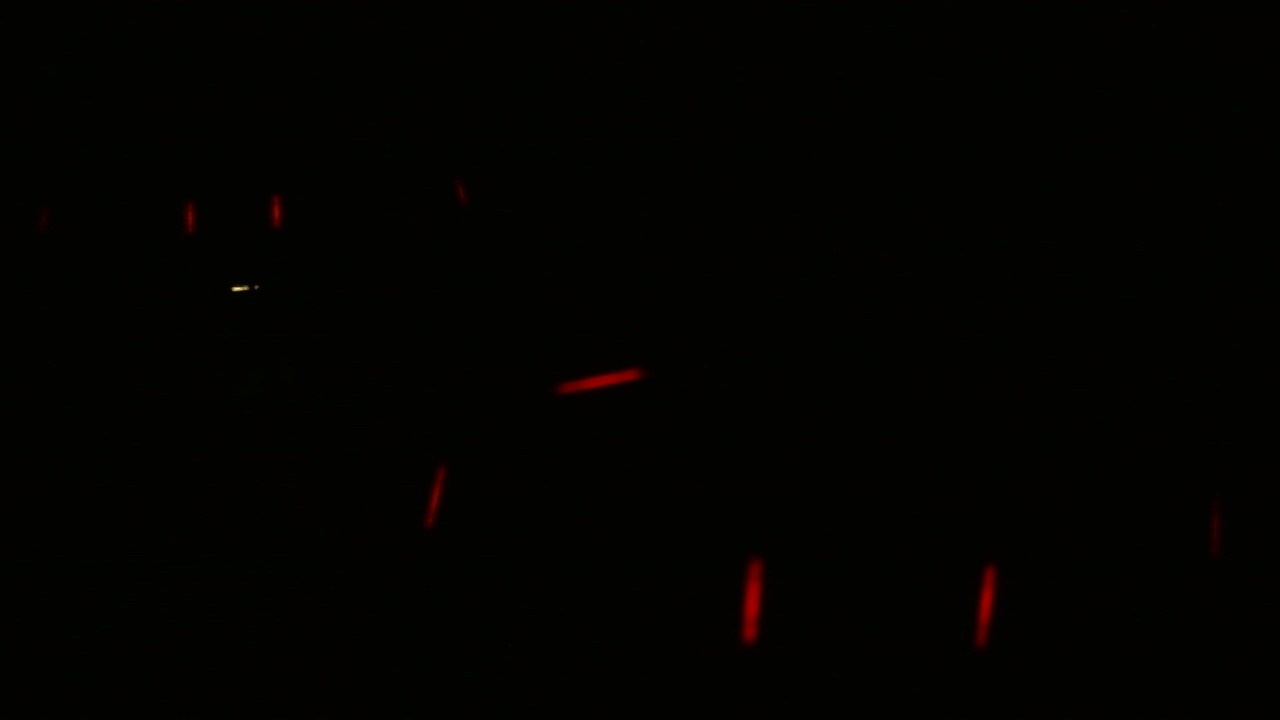pair1: (730, 547, 999, 651), (182, 185, 282, 238)
